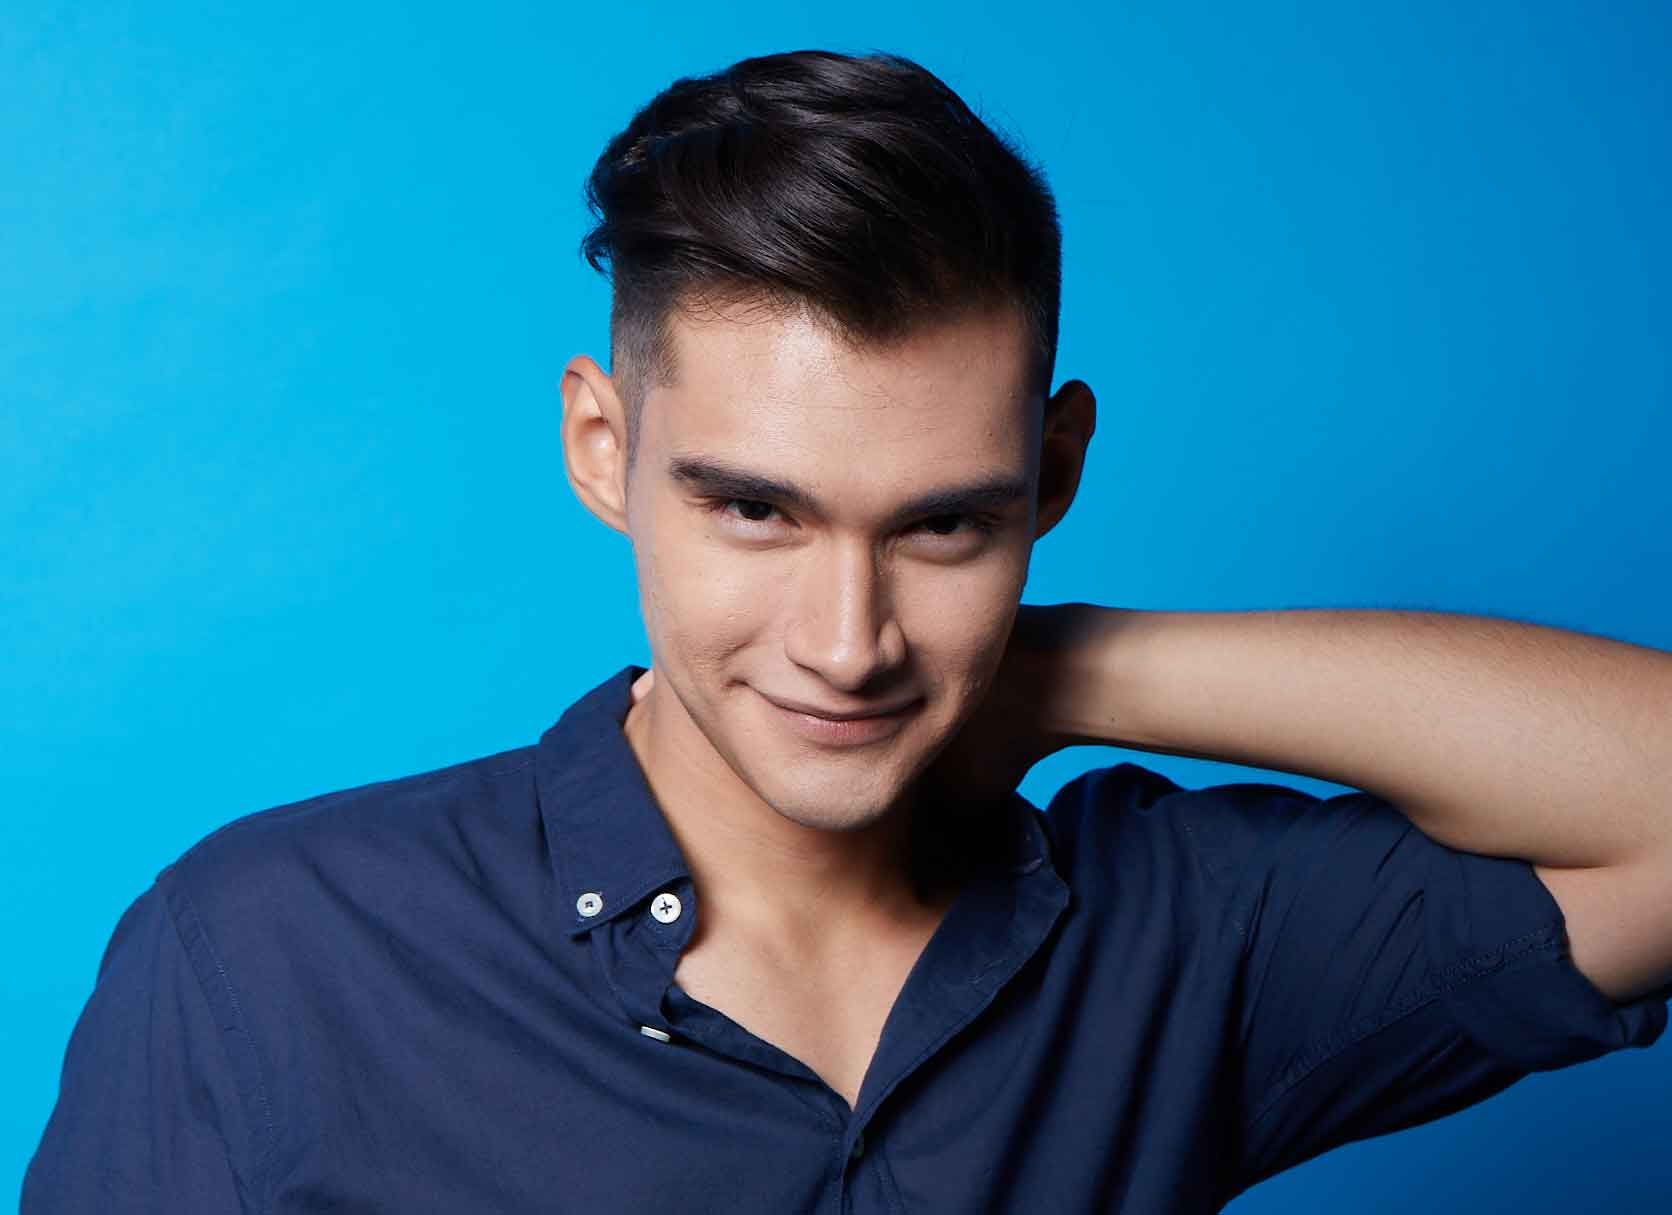Without Helmet: (564, 40, 1117, 845)
